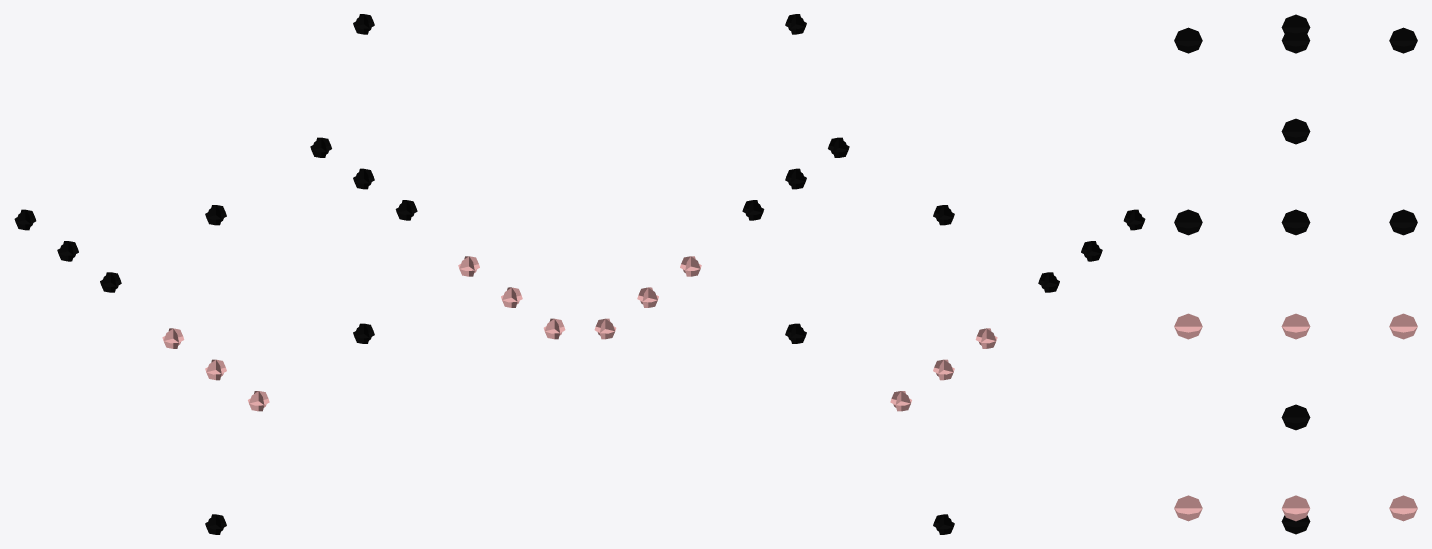
Rendered from matchgraph_d=3_rounds=2_p=0.01.gltf.
3 views of the same model, side by side, from view 1: azimuth 30°, elevation 25°; view 2: azimuth 150°, elevation 25°; view 3: azimuth 270°, elevation 25° (orthographic). The views are drawn at different scales.
Size of the model in its own units: 18.8 by 18.8 by 6.8.
